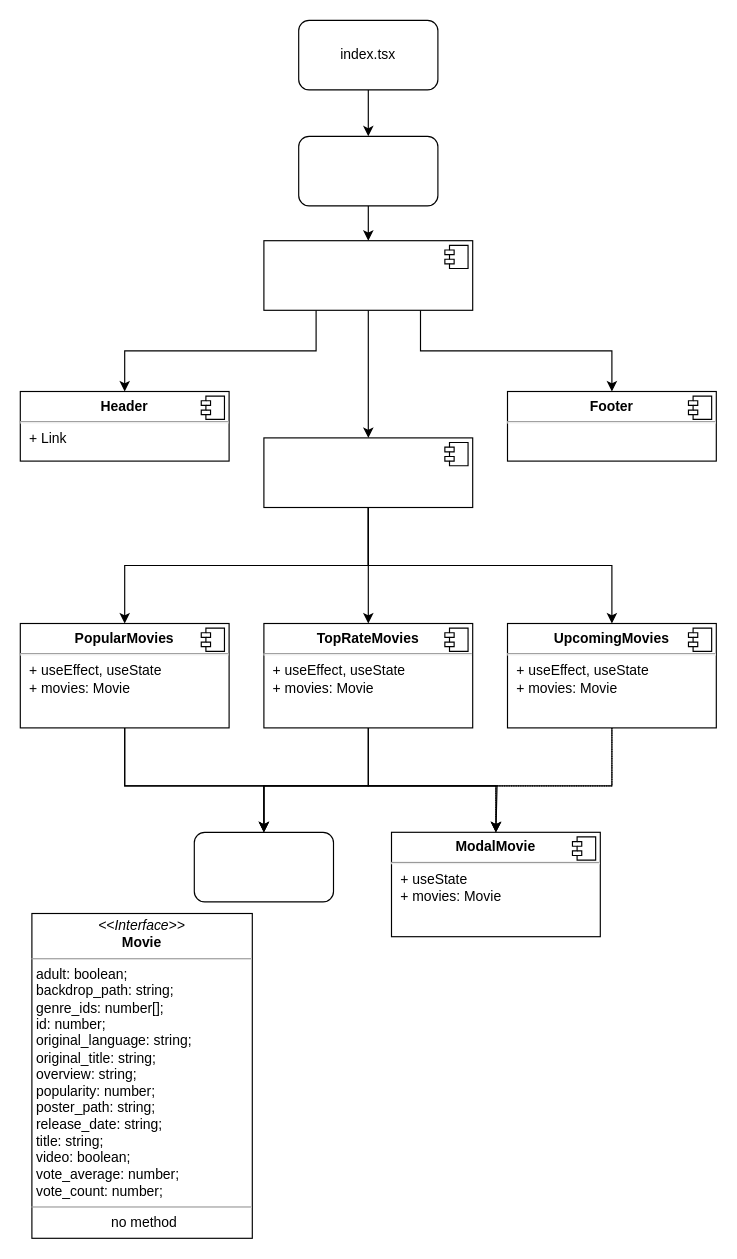
This 737x1259 diagram has some shape labels left out. Here are the shapes that lost their labels. From the top down, the centre of each, then its label:
At point 368,170: "router.tsx".
At point 368,275: "Layout + Outlet".
At point 368,472: "Home".
At point 263,866: "movies.tsx".
